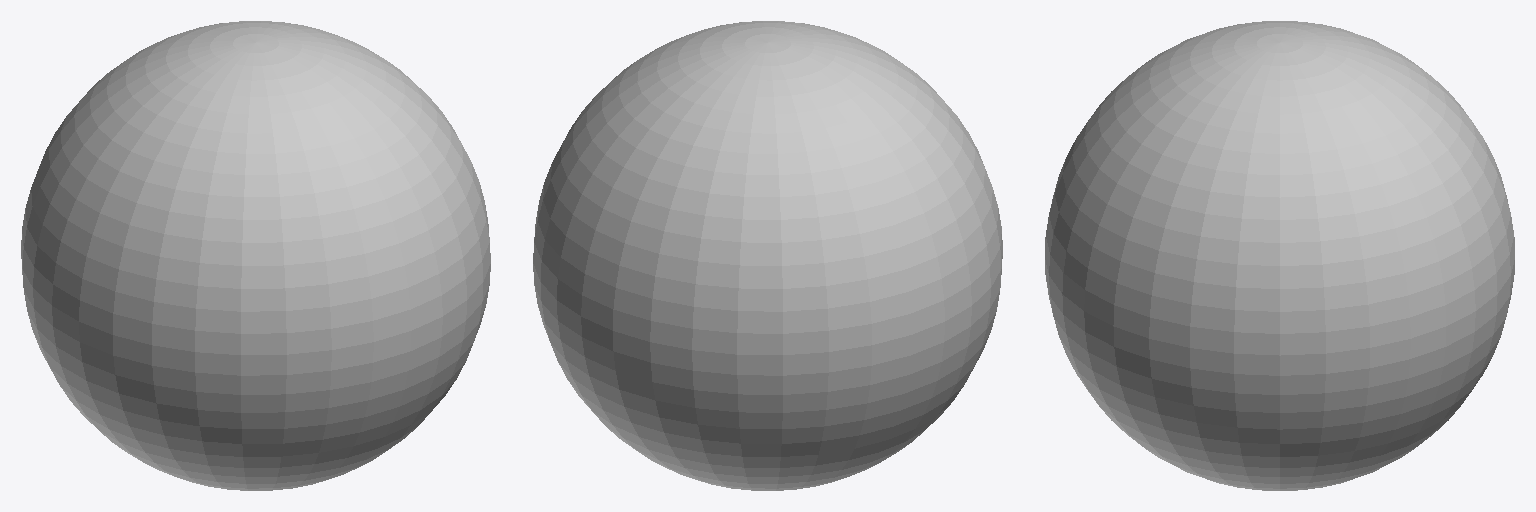
Rendered from CannonBall.obj.
The picture shows the model from 3 angles: view 1: azimuth 30°, elevation 25°; view 2: azimuth 150°, elevation 25°; view 3: azimuth 270°, elevation 25°; orthographic projection.
Visible parts, largest first — view 1: Sphere; view 2: Sphere; view 3: Sphere.
Boxes of the visible parts, box(x1,y1,x2,y2) form: Sphere: box(21, 21, 490, 490); Sphere: box(533, 21, 1002, 490); Sphere: box(1045, 21, 1514, 490).
Size of the model in its own units: 0.9917 by 0.9917 by 0.9917.